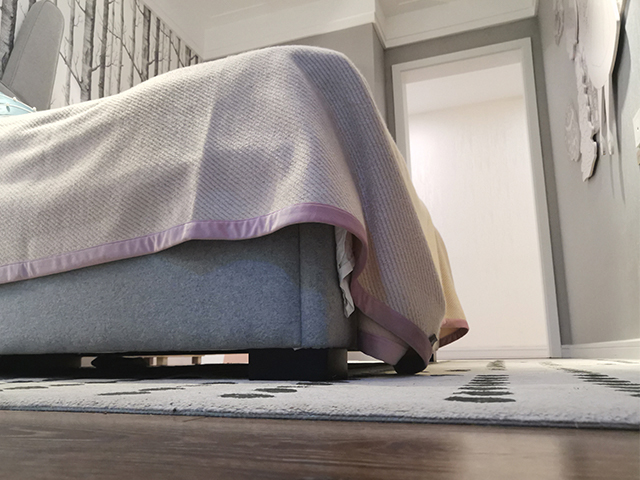bed: (1, 1, 470, 383)
carpet: (1, 355, 640, 432)
